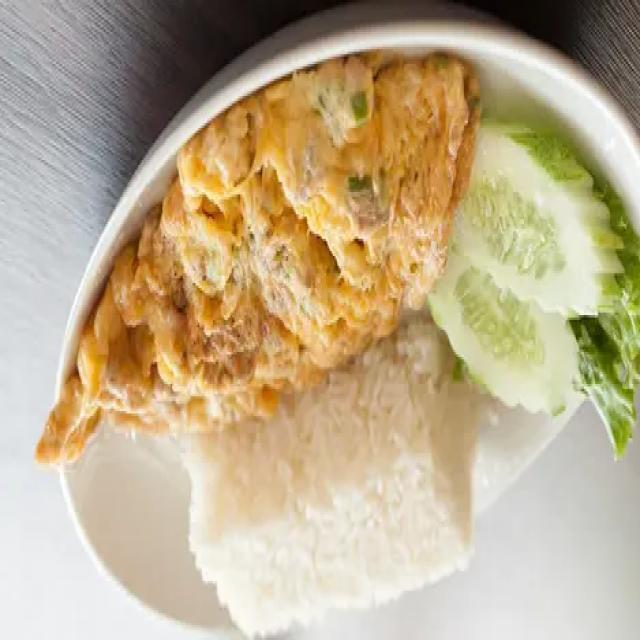nasi_putih: (196, 362, 499, 637)
telur_ayam_dadar: (36, 52, 486, 430)
